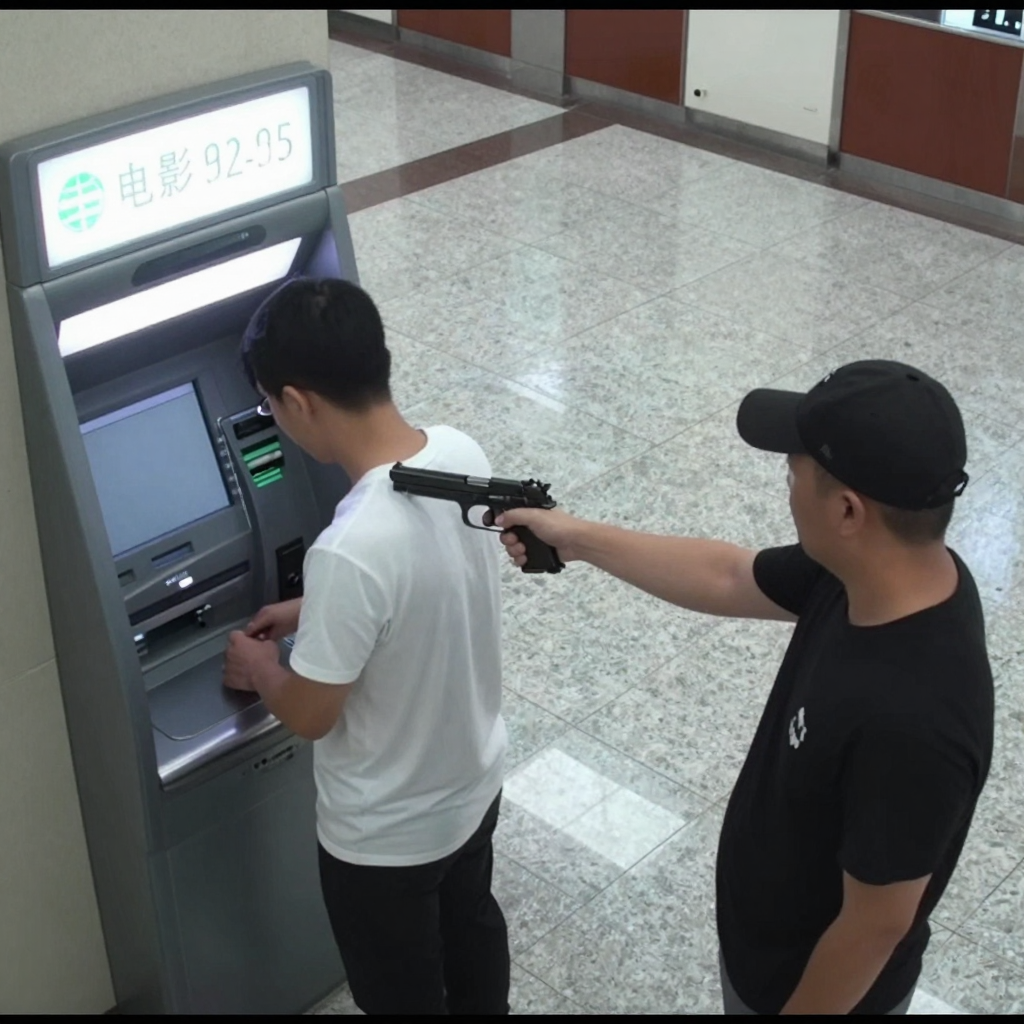Robbery: (493, 358, 996, 1017), (220, 276, 512, 1015)
Shooting: (389, 463, 565, 575)
